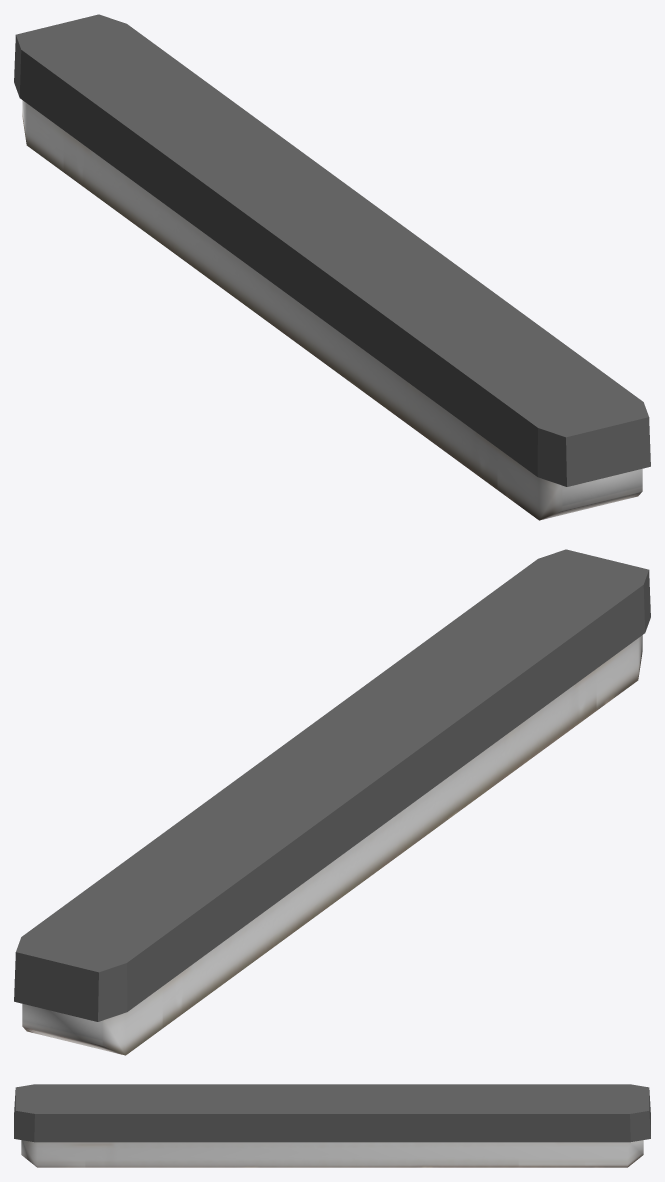
The model's file is lamp.fbx.
The picture shows the model from 3 angles, top to bottom: view 1: azimuth 30°, elevation 25°; view 2: azimuth 150°, elevation 25°; view 3: azimuth 270°, elevation 25°; orthographic projection. The views are drawn at different scales.
Visible parts, largest first — view 1: lamp; view 2: lamp; view 3: lamp.
Part boxes in pixels (x1,y1,x2,y2): lamp: [14, 14, 650, 520]; lamp: [14, 549, 650, 1055]; lamp: [14, 1084, 650, 1167].
Size of the model in its own units: 0.000102 by 8.59e-05 by 0.000906.
